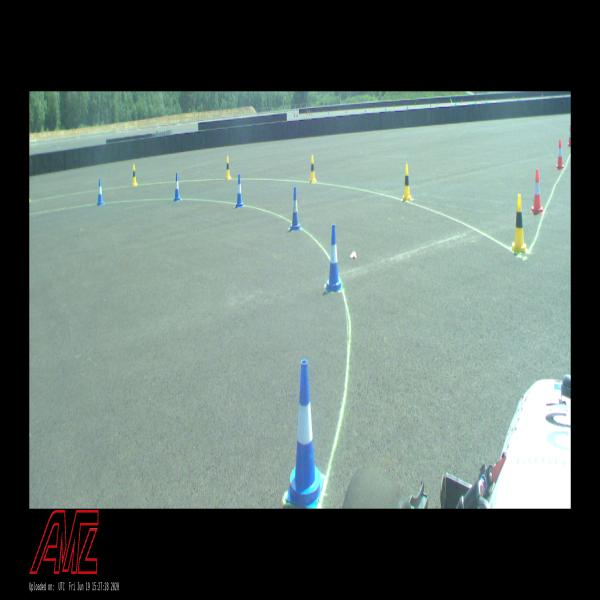blue_cone: (286, 359, 324, 508), (326, 224, 342, 292), (290, 187, 300, 230), (236, 174, 244, 208), (173, 173, 181, 201), (97, 179, 104, 205)
orange_cone: (531, 170, 543, 213), (556, 139, 564, 169), (568, 125, 570, 146)
yellow_cone: (512, 194, 526, 254), (403, 164, 411, 201), (309, 155, 316, 183), (132, 164, 138, 186), (226, 156, 231, 179)
